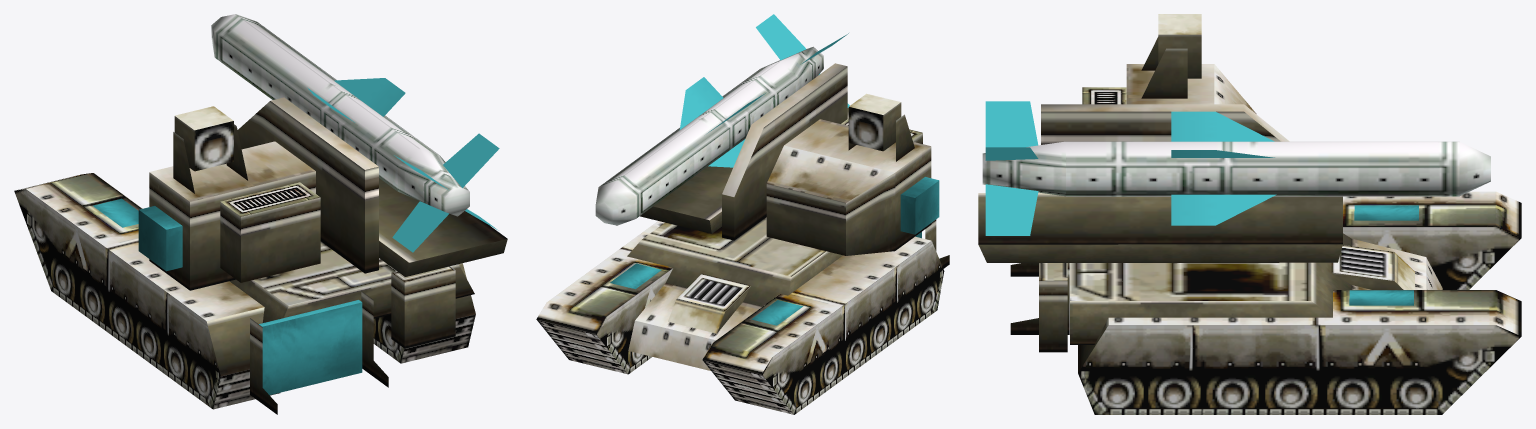
The model's file is rocket_vehicle.glb.
The picture shows the model from 3 angles, left to right: view 1: azimuth 30°, elevation 25°; view 2: azimuth 150°, elevation 25°; view 3: azimuth 270°, elevation 25°; orthographic projection. The views are drawn at different scales.
Visible parts, largest first — view 1: CHASSIS, TURRET, MISSILE, HOUSECOLOR01, TURRETEL, HOUSECOLOR03, RADAR, HOUSECOLOR02; view 2: CHASSIS, TURRET, MISSILE, TURRETEL, RADAR, HOUSECOLOR03, HOUSECOLOR02, HOUSECOLOR01; view 3: CHASSIS, MISSILE, TURRETEL, HOUSECOLOR03, TURRET, RADAR, HOUSECOLOR01.
Part boxes in pixels (box(x1,y1,x2,y2)): CHASSIS: box(14, 173, 475, 414); TURRET: box(149, 97, 378, 290); MISSILE: box(211, 14, 469, 216); HOUSECOLOR01: box(93, 198, 362, 395); TURRETEL: box(379, 178, 507, 276); HOUSECOLOR03: box(307, 78, 499, 252); RADAR: box(173, 106, 247, 193); HOUSECOLOR02: box(138, 206, 182, 271); CHASSIS: box(536, 217, 949, 414); TURRET: box(722, 63, 931, 255); MISSILE: box(595, 46, 823, 225); TURRETEL: box(640, 108, 848, 233); RADAR: box(848, 93, 914, 161); HOUSECOLOR03: box(679, 14, 849, 167); HOUSECOLOR02: box(900, 177, 939, 234); HOUSECOLOR01: box(610, 232, 921, 325); CHASSIS: box(1010, 191, 1521, 414); MISSILE: box(982, 141, 1490, 196); TURRETEL: box(978, 193, 1342, 262); HOUSECOLOR03: box(985, 101, 1276, 235); TURRET: box(1041, 64, 1289, 144); RADAR: box(1141, 14, 1201, 98); HOUSECOLOR01: box(1349, 205, 1418, 305).
Bounding box in the file's own units: 16.69 × 14.52 × 26.15.
Materials: 8 (8 with a texture image).
